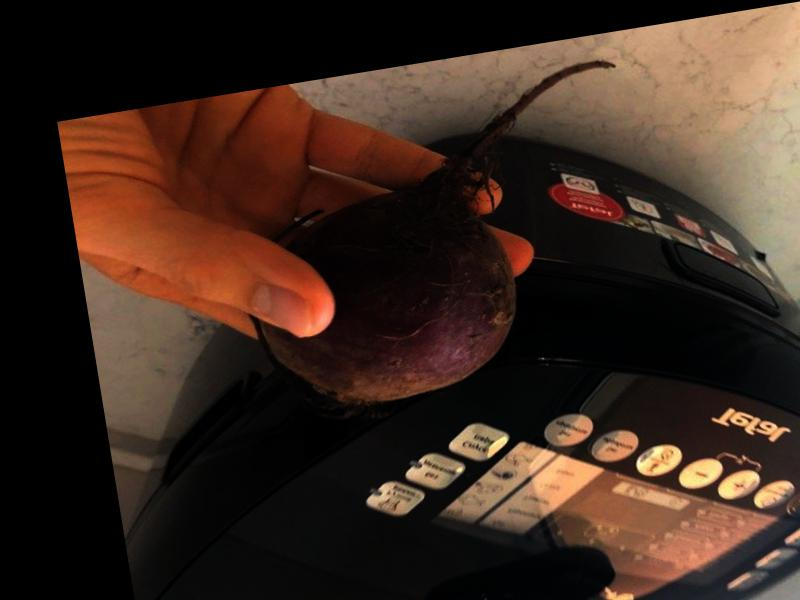Beet: (222, 59, 662, 433)
